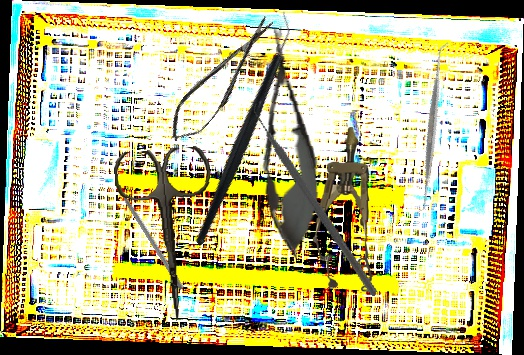Chopper: (127, 10, 358, 246), (203, 93, 432, 297)
Hook Surgical: (113, 179, 185, 291)
Iris Scissors: (112, 145, 224, 325)
Micro Scissor: (247, 21, 327, 262), (158, 10, 287, 150)
Spatula Surgical: (346, 42, 519, 214)
Speculum: (310, 125, 384, 294)
